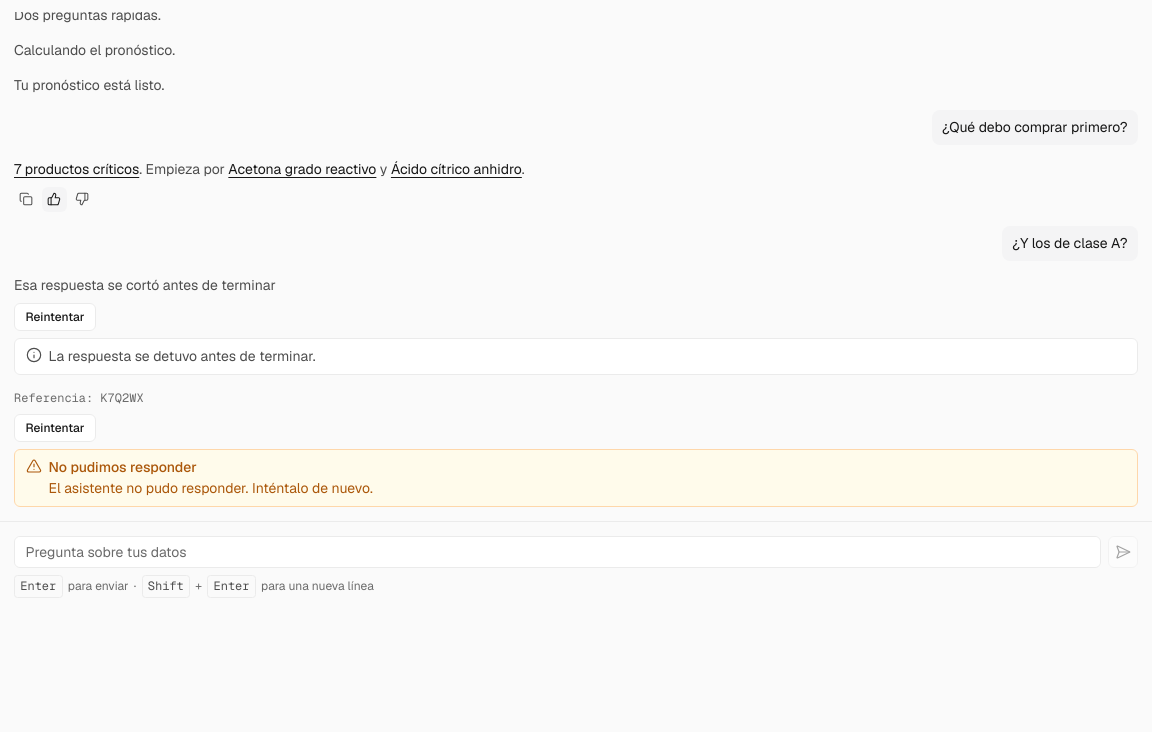
Test: message actions › rolls the feedback back and says so when saving fails
(page scrolled)
Click the button named "Respuesta no útil" at coordinates (82, 199), box left=70, top=187, right=94, bottom=212
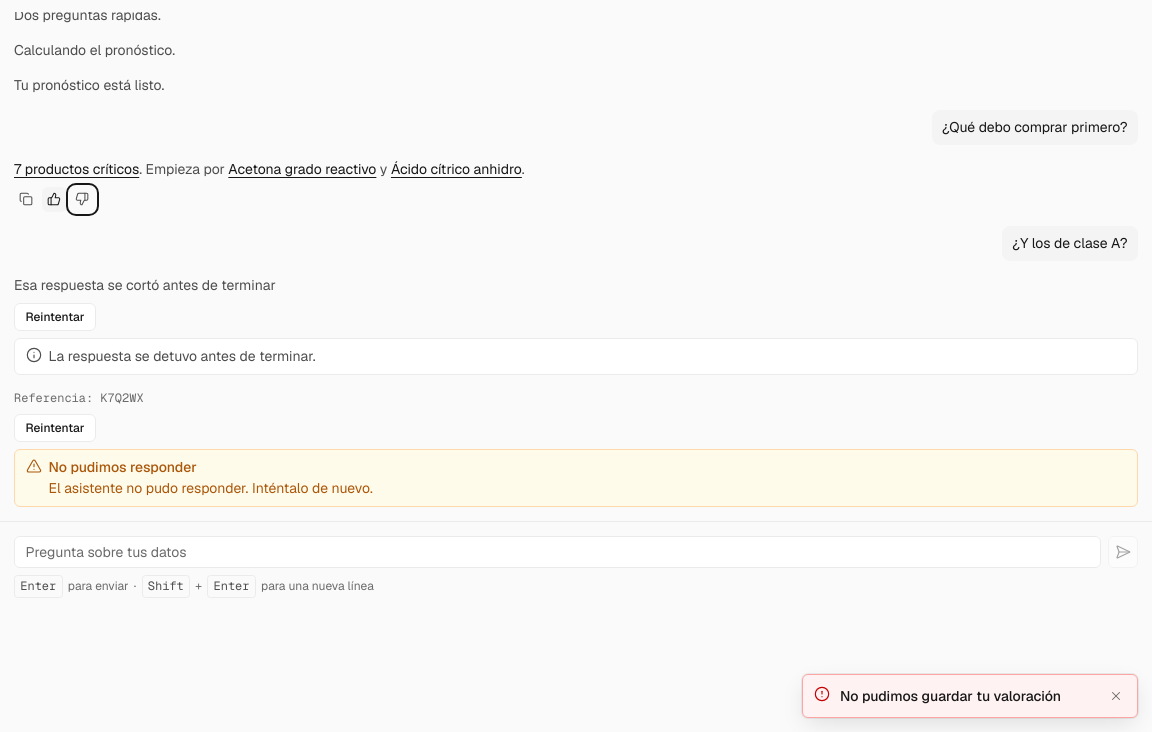
expect the text "No pudimos guardar tu valoración" is shown: met, box left=840, top=686, right=1095, bottom=706
